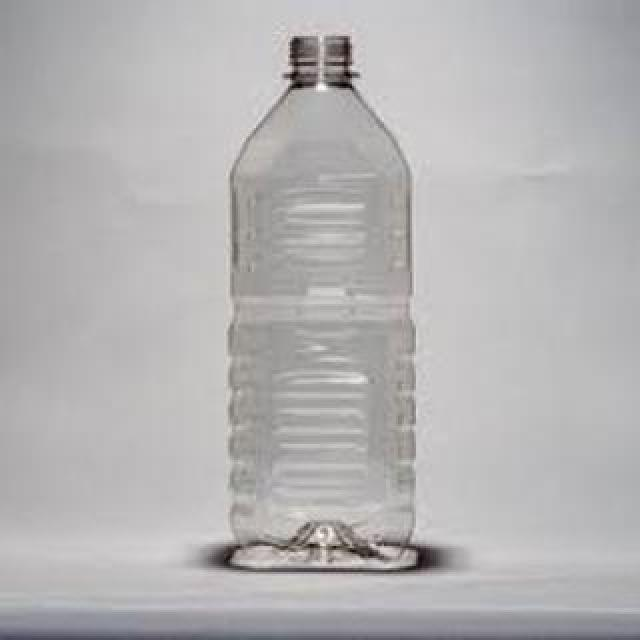Pet_Bottle: (228, 28, 422, 578)
